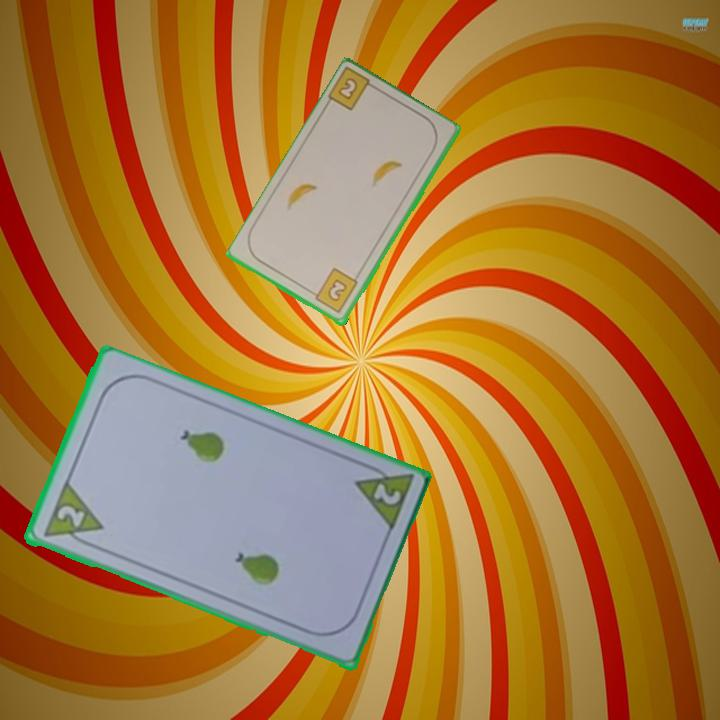2b: (307, 265, 361, 316), (325, 66, 382, 114)
2p: (350, 458, 416, 535), (39, 479, 106, 552)
